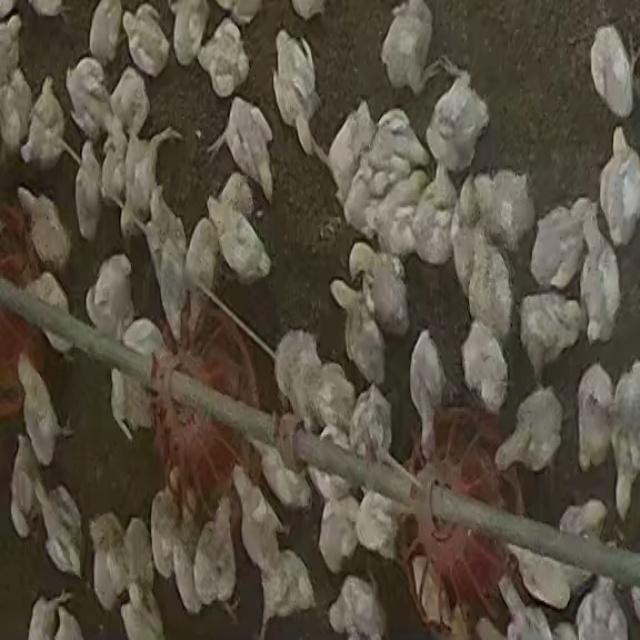chicken: (424, 68, 490, 175), (360, 105, 431, 197), (271, 330, 330, 436), (496, 384, 565, 474), (16, 351, 66, 468), (222, 95, 279, 197), (268, 31, 316, 151), (372, 168, 432, 260), (528, 202, 588, 293), (463, 234, 512, 344), (19, 76, 72, 176), (233, 468, 284, 571), (409, 165, 460, 266), (17, 185, 72, 277), (198, 498, 244, 603), (215, 202, 272, 285), (408, 329, 446, 453), (35, 480, 83, 578), (599, 128, 640, 242), (262, 548, 320, 628), (609, 360, 639, 514), (85, 254, 135, 346), (478, 169, 534, 251), (22, 268, 75, 354), (576, 363, 615, 478), (592, 25, 640, 117), (327, 99, 371, 197), (197, 19, 250, 100), (380, 2, 428, 91), (579, 232, 614, 348), (516, 534, 570, 609), (362, 249, 408, 337), (555, 495, 605, 573), (330, 572, 384, 640), (108, 64, 152, 147), (183, 220, 220, 318), (346, 300, 387, 386), (123, 4, 170, 78), (348, 384, 392, 462), (122, 515, 156, 603), (10, 437, 40, 534), (1, 69, 32, 162), (64, 60, 103, 133), (574, 582, 626, 636), (75, 145, 104, 241), (120, 586, 166, 636), (100, 136, 126, 222), (93, 536, 121, 612), (171, 541, 199, 610), (89, 0, 118, 65)
